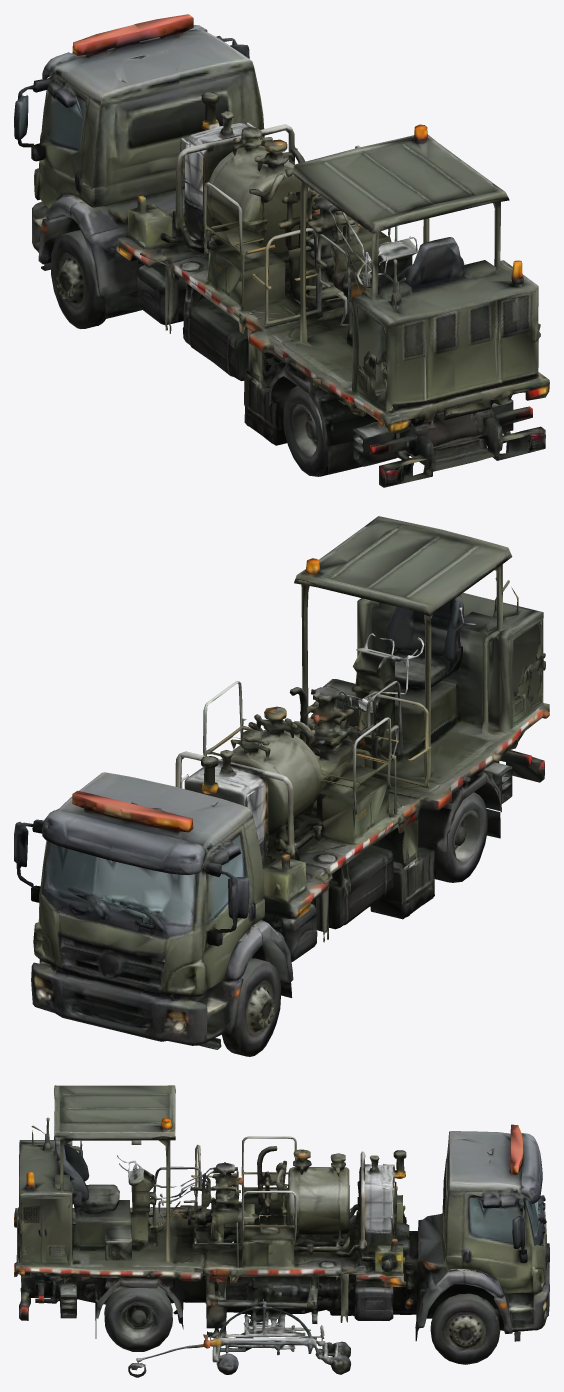
Rendered from caminhao-pintura-faixas_lod0.glb.
3 renders of one model, top to bottom at view 1: azimuth 30°, elevation 25°; view 2: azimuth 150°, elevation 25°; view 3: azimuth 270°, elevation 25°, orthographic. The views are drawn at different scales.
Visible parts, largest first — view 1: tripo_node_d9fb47af-b1ad-4608-aa5e-57296297f3ee; view 2: tripo_node_d9fb47af-b1ad-4608-aa5e-57296297f3ee; view 3: tripo_node_d9fb47af-b1ad-4608-aa5e-57296297f3ee.
Boxes of the visible parts, x1,y1,x2,y2 form: tripo_node_d9fb47af-b1ad-4608-aa5e-57296297f3ee: [14, 14, 549, 487]; tripo_node_d9fb47af-b1ad-4608-aa5e-57296297f3ee: [14, 516, 549, 1056]; tripo_node_d9fb47af-b1ad-4608-aa5e-57296297f3ee: [14, 1085, 549, 1377].
Bounding box in the file's own units: 3.1 × 3.86 × 8.
1 material, 1 textured.
